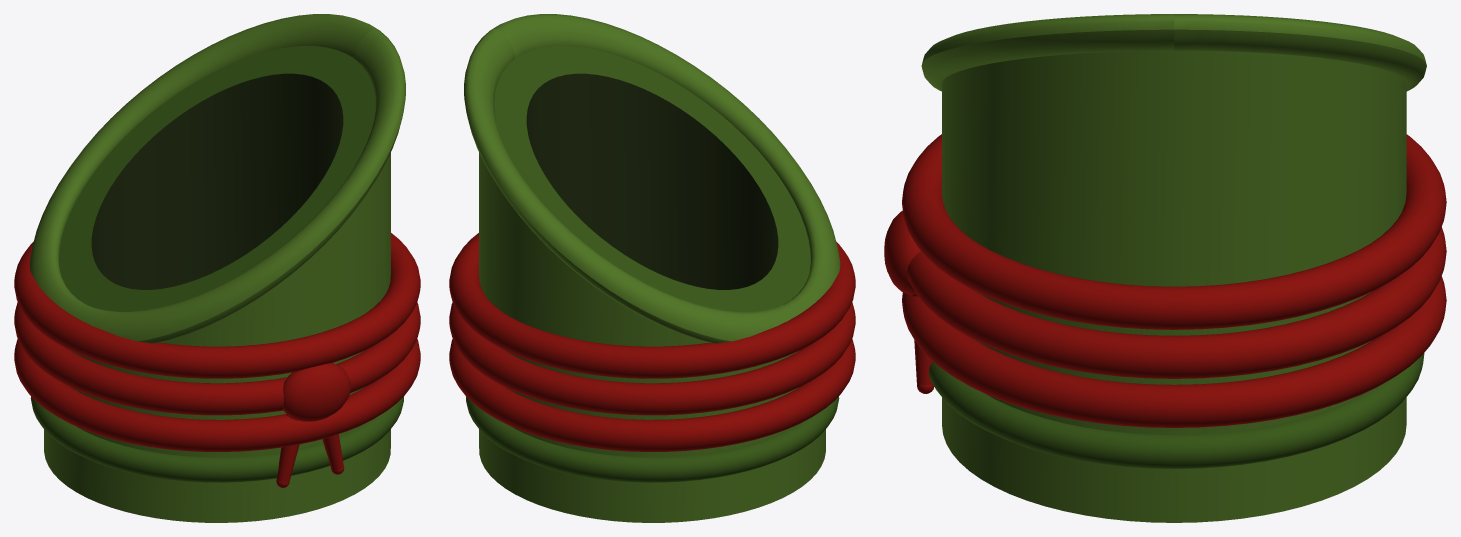
Rendered from bamboo-water-pipe.obj.
3 renders of one model, left to right at view 1: azimuth 30°, elevation 25°; view 2: azimuth 150°, elevation 25°; view 3: azimuth 270°, elevation 25°, orthographic. The views are drawn at different scales.
Parts seen in each view (by area): view 1: pipe_bore, pipe_outer, pipe_lip, pipe_rim, string_loop_0, string_loop_2, string_loop_1, bamboo_node_ring, string_knot, string_tail_0, string_tail_1; view 2: pipe_bore, pipe_outer, pipe_lip, pipe_rim, string_loop_0, string_loop_1, string_loop_2, bamboo_node_ring; view 3: pipe_outer, string_loop_0, string_loop_2, string_loop_1, pipe_lip, bamboo_node_ring, string_knot.
Boxes of the visible parts, x1,y1,x2,y2 form: pipe_bore: [91, 73, 343, 289]; pipe_outer: [44, 152, 390, 522]; pipe_lip: [29, 14, 405, 343]; pipe_rim: [59, 46, 375, 311]; string_loop_0: [14, 233, 420, 378]; string_loop_2: [14, 339, 420, 451]; string_loop_1: [14, 302, 420, 415]; bamboo_node_ring: [30, 396, 403, 482]; string_knot: [283, 363, 351, 421]; string_tail_0: [277, 414, 299, 483]; string_tail_1: [322, 434, 343, 471]; pipe_bore: [526, 73, 778, 289]; pipe_outer: [479, 152, 825, 522]; pipe_lip: [464, 14, 840, 343]; pipe_rim: [494, 46, 810, 311]; string_loop_0: [449, 233, 855, 378]; string_loop_1: [449, 302, 855, 415]; string_loop_2: [449, 339, 855, 451]; bamboo_node_ring: [466, 396, 839, 482]; pipe_outer: [942, 50, 1406, 522]; string_loop_0: [902, 134, 1446, 329]; string_loop_2: [902, 276, 1446, 427]; string_loop_1: [907, 227, 1446, 378]; pipe_lip: [921, 14, 1426, 91]; bamboo_node_ring: [928, 353, 1424, 468]; string_knot: [884, 211, 920, 294].
Bounding box in the file's own units: 0.3165 × 0.3282 × 0.3267.
